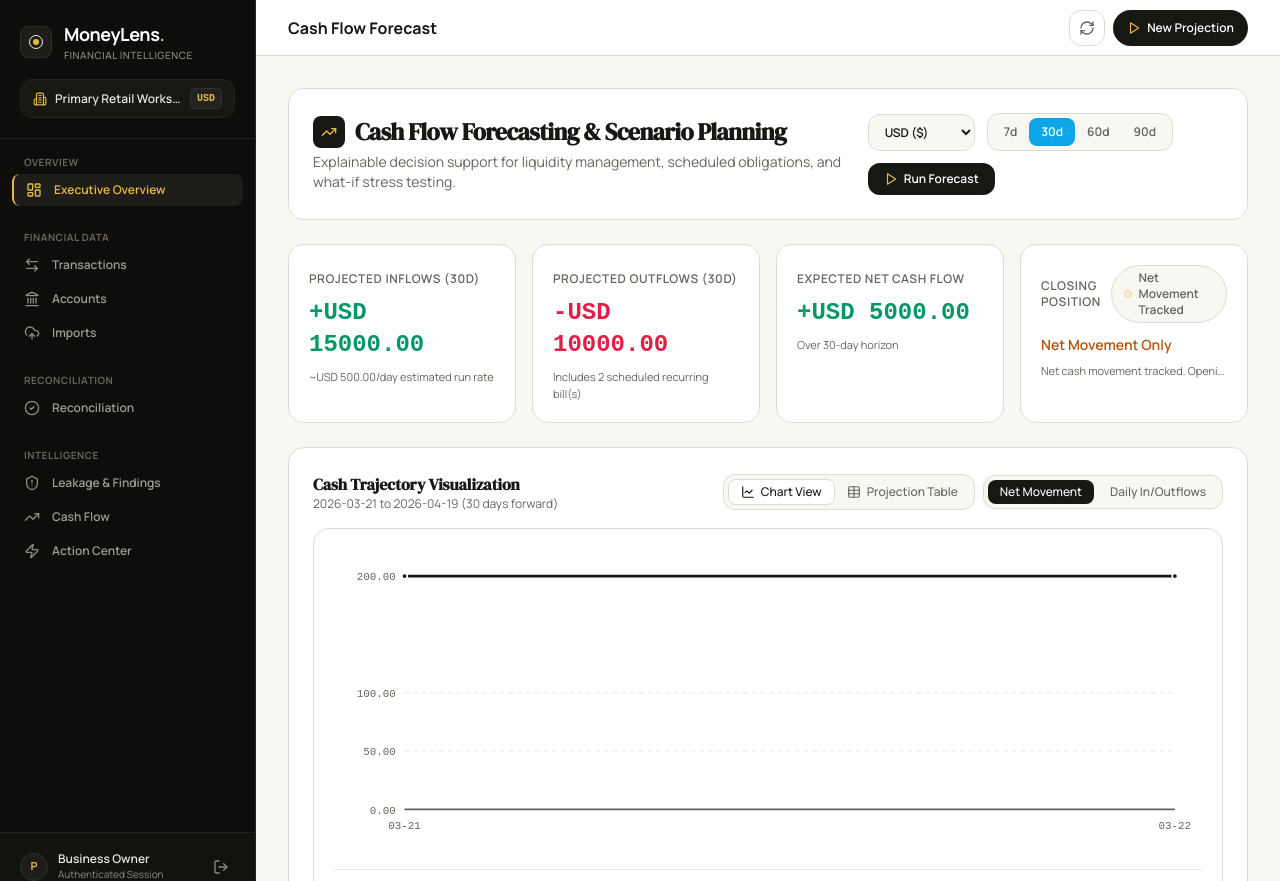
Test case: CashFlowDashboard Component Suite › toggles between Chart View and Projection Table view and renders tabular ledger
# Switch to Projection Table View
Click the button "Projection Table" at (902, 492), box [835, 480, 970, 504]
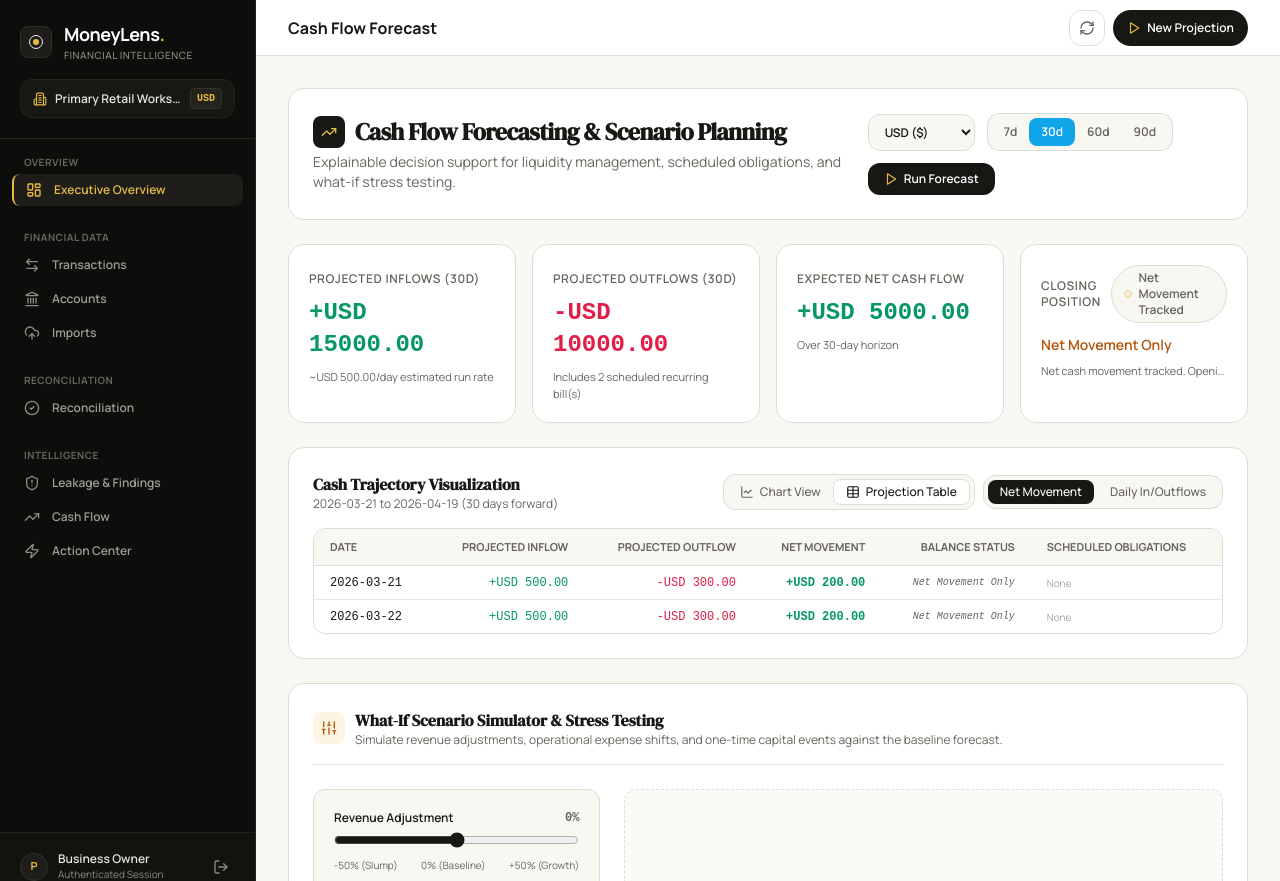
Expected: the column heading "Scheduled Obligations" is shown, [1031, 529, 1222, 566]
Expected: the text "2026-03-21" is shown, [314, 566, 430, 600]
Expected: the text "2026-03-22" is shown, [314, 600, 430, 633]
# Switch back to Chart View
Click the button "Chart View" at (780, 492), box [728, 480, 833, 504]
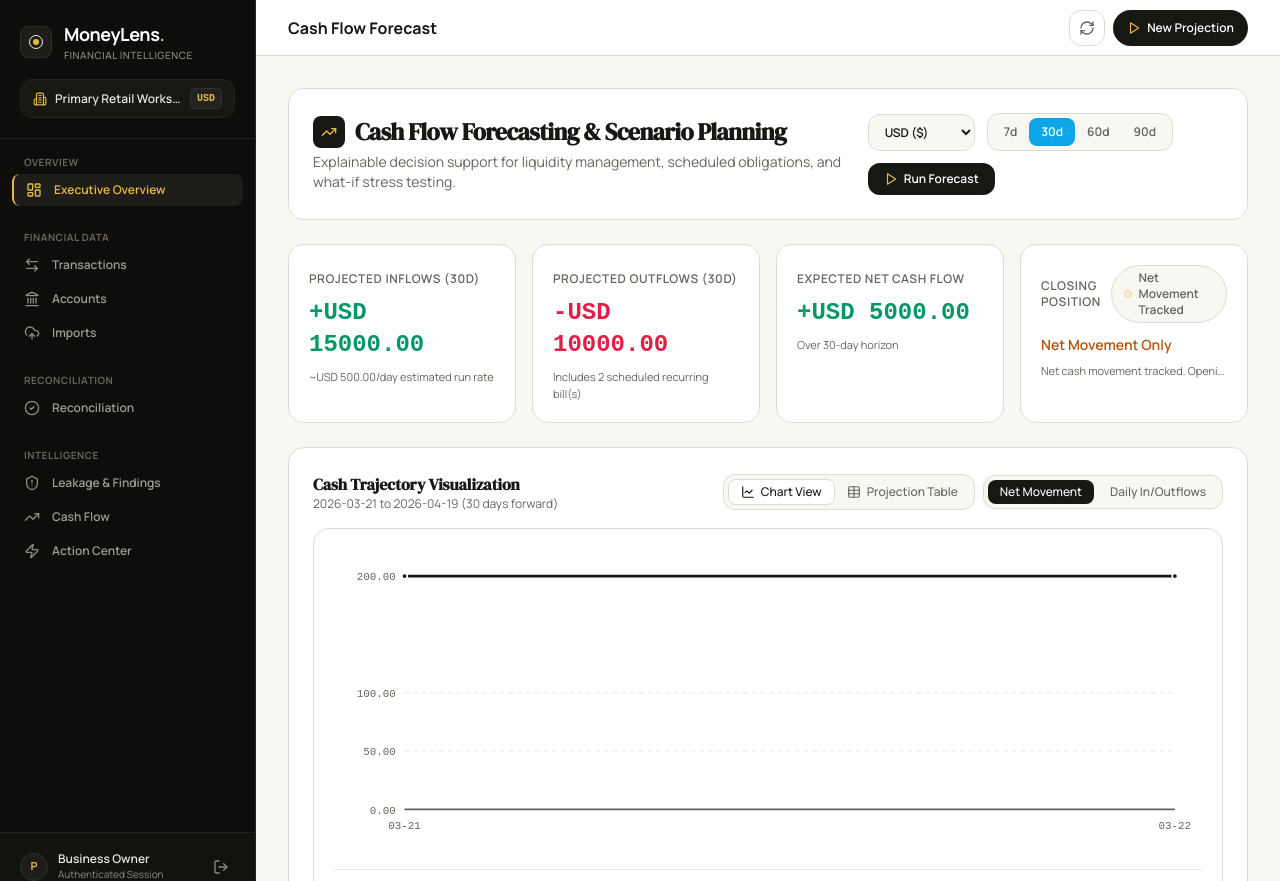
Expected: the picture named "Cash Flow Forecast Chart" is shown, [334, 549, 1202, 853]
